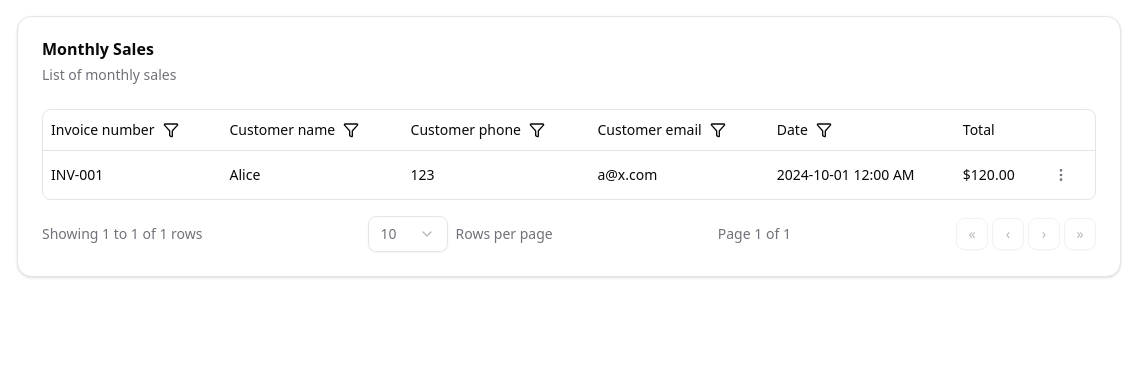
Monthly sales report pagination and filters › changes page size and refetches
This screenshot has width=1139, height=383.
expect the text "INV-001" is shown: met, box [43,150,222,198]
Click the dropdown at (408, 234), box [368,216,448,252]
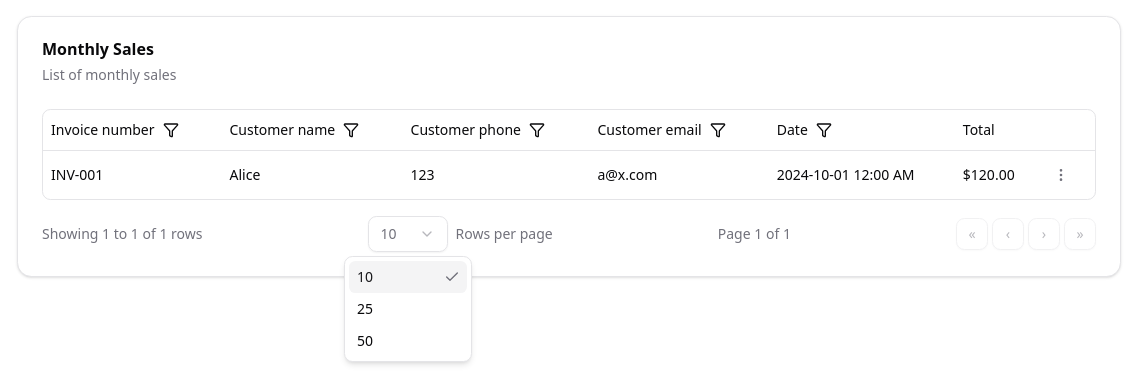
Click the option "25" at (365, 308), box [357,299,373,318]
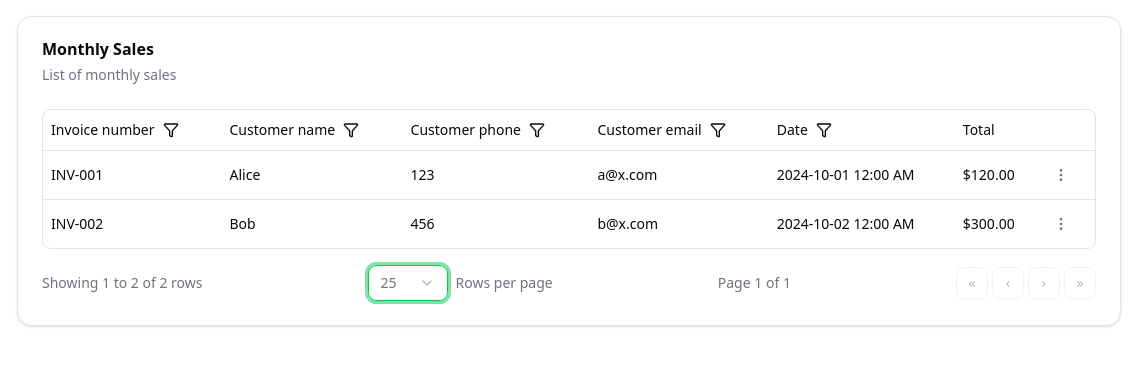
expect the text "INV-002" is shown: met, box [43,199,222,248]
